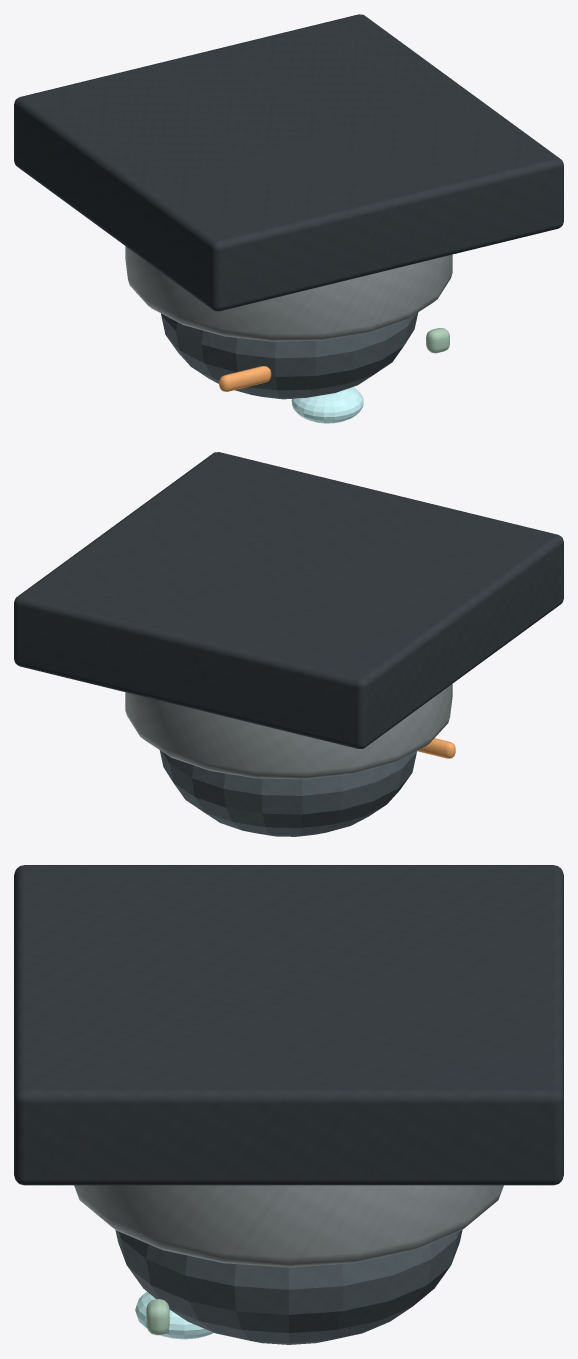
The model's file is CeilingSensor.glb.
3 views of the same model, one above another, from view 1: azimuth 30°, elevation 25°; view 2: azimuth 150°, elevation 25°; view 3: azimuth 270°, elevation 25° (orthographic). The views are drawn at different scales.
Visible parts, largest first — view 1: CeilingSensor_Mesh; view 2: CeilingSensor_Mesh; view 3: CeilingSensor_Mesh.
Boxes of the visible parts, x1,y1,x2,y2 form: CeilingSensor_Mesh: (14, 14, 563, 423); CeilingSensor_Mesh: (14, 452, 563, 836); CeilingSensor_Mesh: (14, 865, 563, 1344).
Bounding box in the file's own units: 0.42 × 0.2975 × 0.42.
6 materials, 6 textured.
